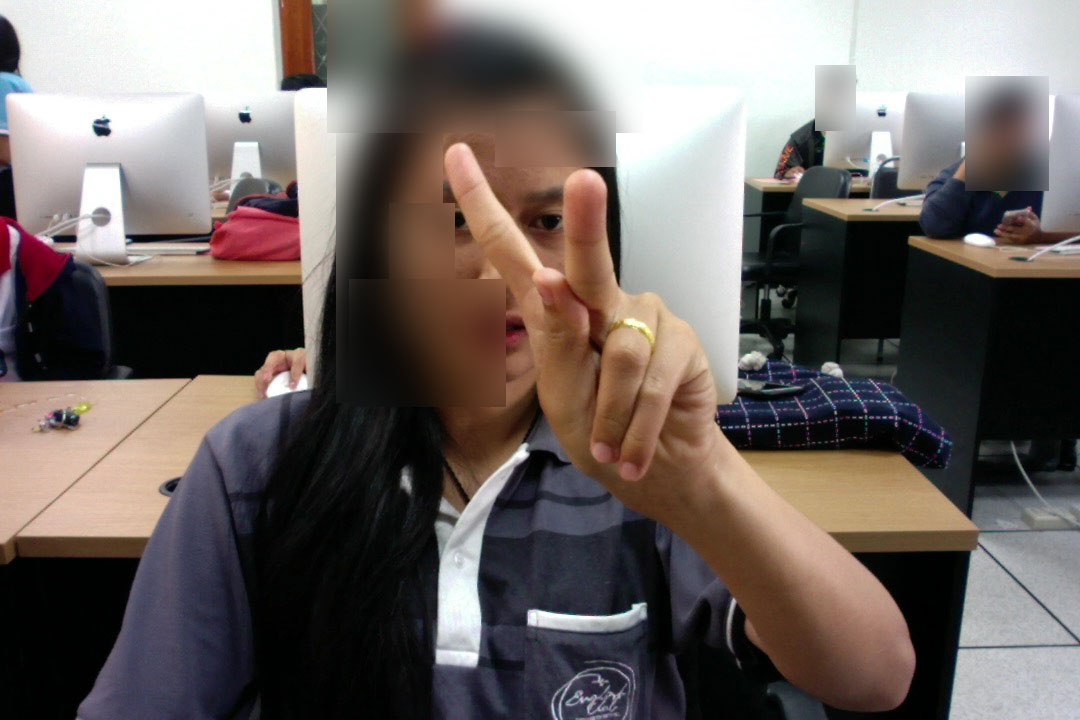ko: (430, 132, 742, 527)
